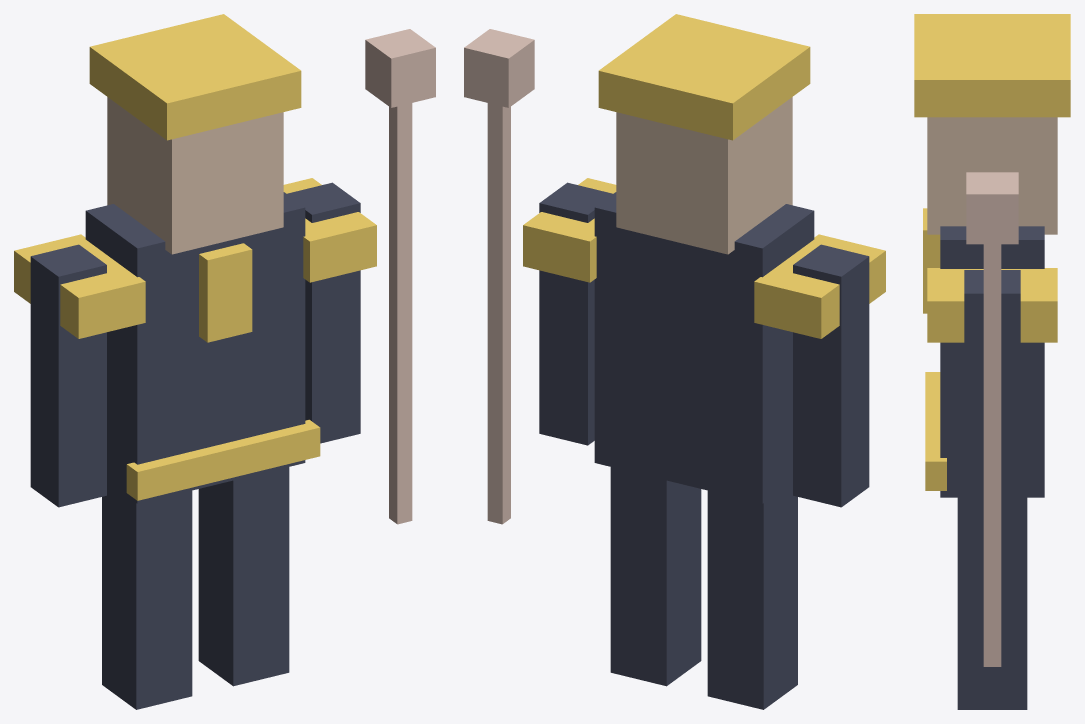
The model's file is 11_edda_starfall_medic_under_cold.glb.
3 views of the same model, side by side, from view 1: azimuth 30°, elevation 25°; view 2: azimuth 150°, elevation 25°; view 3: azimuth 270°, elevation 25° (orthographic).
Parts seen in each view (by area): view 1: Edda Starfall, Medic under Cold; view 2: Edda Starfall, Medic under Cold; view 3: Edda Starfall, Medic under Cold.
Boxes of the visible parts, x1,y1,x2,y2 form: Edda Starfall, Medic under Cold: (14,14,435,709); Edda Starfall, Medic under Cold: (464,14,885,709); Edda Starfall, Medic under Cold: (914,14,1070,709).
Size of the model in its own units: 1.06 by 1.65 by 0.3747.
